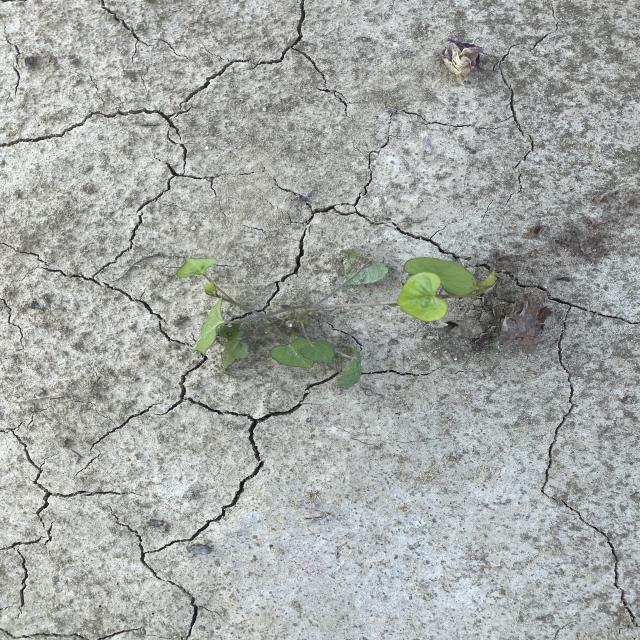MorningGlory: (173, 252, 498, 392)
